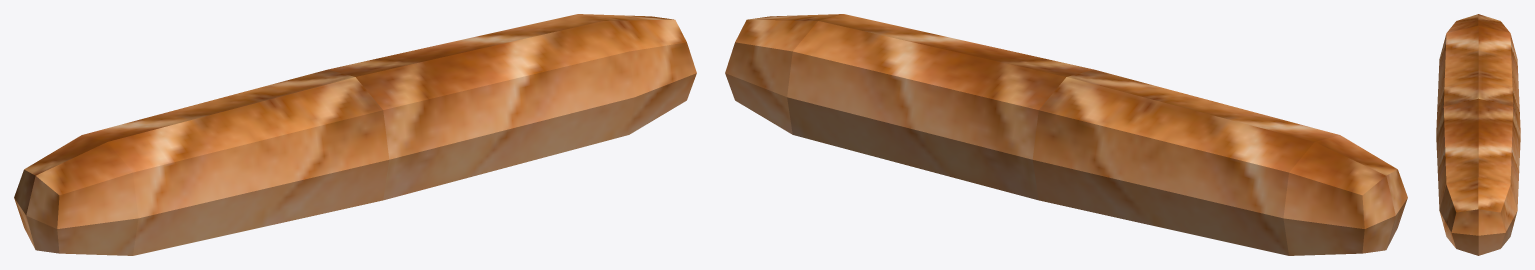
Rendered from italian.fbx.
3 views of the same model, side by side, from view 1: azimuth 30°, elevation 25°; view 2: azimuth 150°, elevation 25°; view 3: azimuth 270°, elevation 25° (orthographic). The views are drawn at different scales.
Visible parts, largest first — view 1: italian; view 2: italian; view 3: italian.
Part boxes in pixels (x1,y1,x2,y2): italian: (14,14,696,255); italian: (725,14,1407,255); italian: (1436,14,1520,255).
Size of the model in its own units: 0.2082 by 0.1968 by 1.17.
